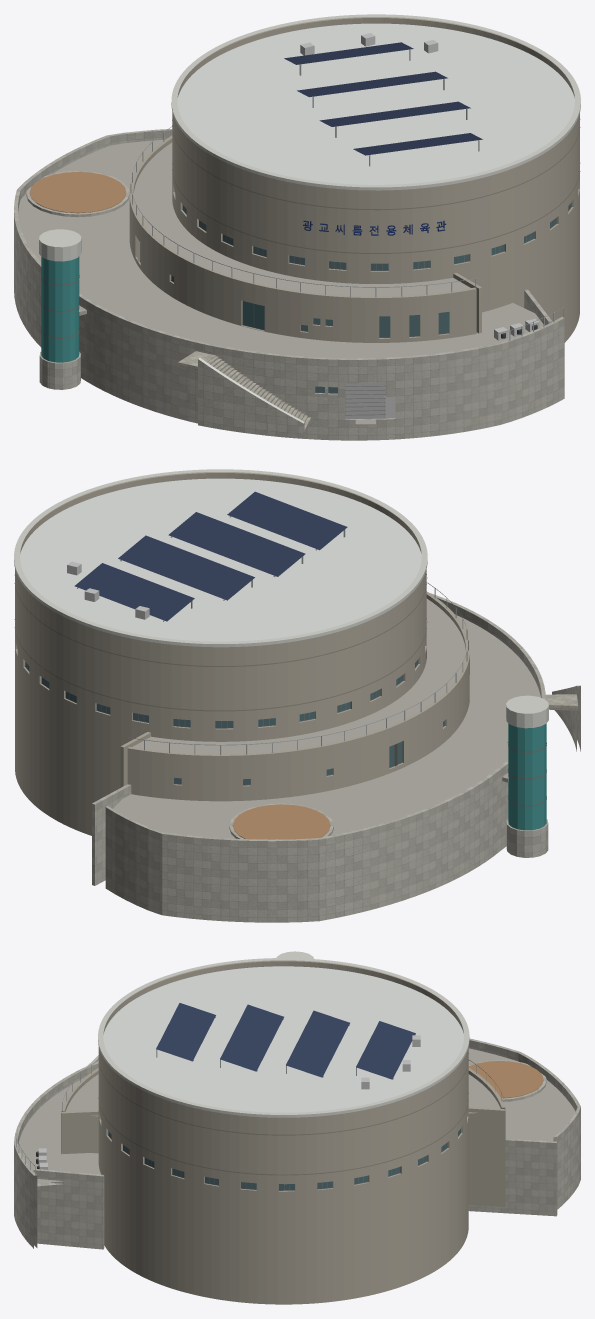
The picture shows the model from 3 angles, top to bottom: view 1: azimuth 30°, elevation 25°; view 2: azimuth 150°, elevation 25°; view 3: azimuth 270°, elevation 25°; orthographic projection. The views are drawn at different scales.
Parts seen in each view (by area): view 1: ssireum__panel-wall, ssireum__roof, ssireum__stone-wall, ssireum__terrace-paving, ssireum__cap, ssireum__solar-panel, ssireum__elevator-glass, ssireum__sand-pit, ssireum__glass, ssireum__step-stone, ssireum__roller-door, ssireum__panel-joint (+5 smaller); view 2: ssireum__panel-wall, ssireum__stone-wall, ssireum__roof, ssireum__terrace-paving, ssireum__solar-panel, ssireum__cap, ssireum__elevator-glass, ssireum__sand-pit, ssireum__glass, ssireum__panel-joint, ssireum__rail, ssireum__frame; view 3: ssireum__panel-wall, ssireum__roof, ssireum__stone-wall, ssireum__solar-panel, ssireum__terrace-paving, ssireum__cap, ssireum__sand-pit, ssireum__panel-joint, ssireum__glass, ssireum__ac.
Part boxes in pixels (box(x1,y1,x2,y2)): ssireum__panel-wall: box(129, 17, 579, 342); ssireum__roof: box(177, 23, 574, 184); ssireum__stone-wall: box(14, 129, 564, 440); ssireum__terrace-paving: box(18, 140, 552, 358); ssireum__cap: box(39, 14, 580, 423); ssireum__solar-panel: box(284, 42, 482, 155); ssireum__elevator-glass: box(41, 256, 79, 362); ssireum__sand-pit: box(29, 172, 126, 213); ssireum__glass: box(140, 202, 571, 392); ssireum__step-stone: box(178, 351, 311, 431); ssireum__roller-door: box(345, 383, 385, 419); ssireum__panel-joint: box(172, 119, 580, 253); ssireum__panel-wall: box(15, 472, 469, 835); ssireum__stone-wall: box(92, 593, 580, 922); ssireum__roof: box(20, 478, 421, 641); ssireum__terrace-paving: box(113, 598, 540, 838); ssireum__solar-panel: box(74, 491, 347, 621); ssireum__cap: box(14, 469, 580, 728); ssireum__elevator-glass: box(508, 723, 546, 830); ssireum__sand-pit: box(232, 804, 330, 839); ssireum__glass: box(25, 659, 444, 784); ssireum__panel-joint: box(14, 574, 427, 711); ssireum__rail: box(128, 582, 468, 755); ssireum__frame: box(17, 649, 546, 806); ssireum__panel-wall: box(61, 960, 505, 1304); ssireum__roof: box(103, 966, 463, 1112); ssireum__stone-wall: box(14, 1038, 580, 1249); ssireum__solar-panel: box(156, 1003, 415, 1079); ssireum__terrace-paving: box(18, 1048, 575, 1183); ssireum__cap: box(87, 951, 469, 1117); ssireum__sand-pit: box(468, 1061, 543, 1098); ssireum__panel-joint: box(98, 1053, 468, 1175); ssireum__glass: box(108, 1129, 460, 1190); ssireum__ac: box(38, 1035, 420, 1169).
Bounding box in the file's own units: 51.82 × 20.89 × 55.48.
Materials: 22 (2 with a texture image).
